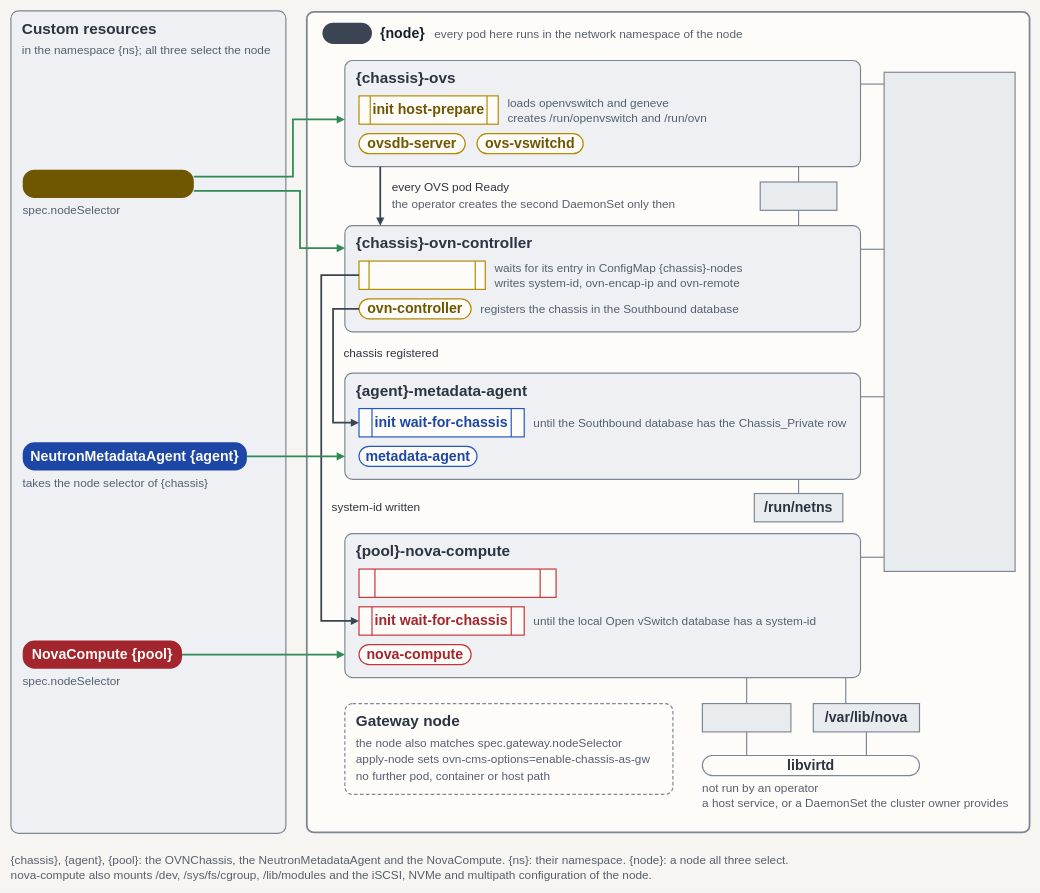
Some shapes in this 1040 by 893 pixel diagram are drawn without their labels. The shapes that lost their labels are listed below. From the top down, each one's centre as x and y in pixels, then its label:
At point (347, 33): "node".
At point (108, 183): "OVNChassis {chassis}".
At point (798, 196): "/run/ovn".
At point (422, 275): "init apply-node".
At point (949, 321): "/run/openvswitch".
At point (457, 583): "init create-instances-dir".
At point (746, 717): "/run/libvirt".
